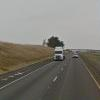Car: (69, 49, 81, 59)
